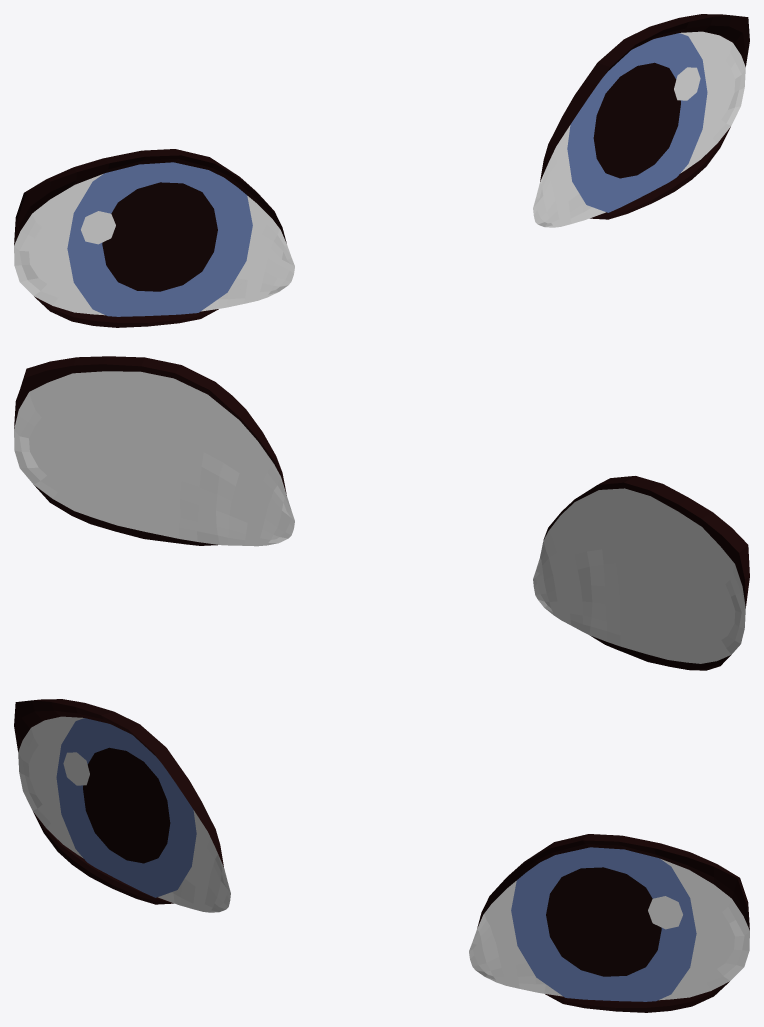
The model's file is eyes_kind.glb.
3 views of the same model, one above another, from view 1: azimuth 30°, elevation 25°; view 2: azimuth 150°, elevation 25°; view 3: azimuth 330°, elevation 25° (orthographic).
Parts seen in each view (by area): view 1: eyes_kind; view 2: eyes_kind; view 3: eyes_kind.
Boxes of the visible parts, left/top/right/bottom form: eyes_kind: left=14, top=14, right=749, bottom=327; eyes_kind: left=14, top=356, right=749, bottom=670; eyes_kind: left=14, top=699, right=749, bottom=1012.
Bounding box in the file's own units: 0.2243 × 0.0514 × 0.0198.
